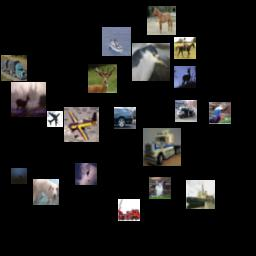airplane: (64, 107, 99, 142), (75, 163, 97, 185), (47, 111, 63, 127)
automobile: (114, 107, 136, 129), (175, 100, 197, 122)
bird: (132, 43, 170, 81), (209, 102, 231, 124)
cat: (149, 177, 171, 199)
deer: (11, 82, 46, 117), (88, 64, 117, 93), (174, 66, 196, 88), (11, 168, 27, 184)
dog: (33, 179, 59, 205)
ship: (186, 180, 215, 209), (102, 27, 131, 56)
truck: (143, 128, 181, 166), (1, 55, 27, 81), (118, 199, 140, 221)
